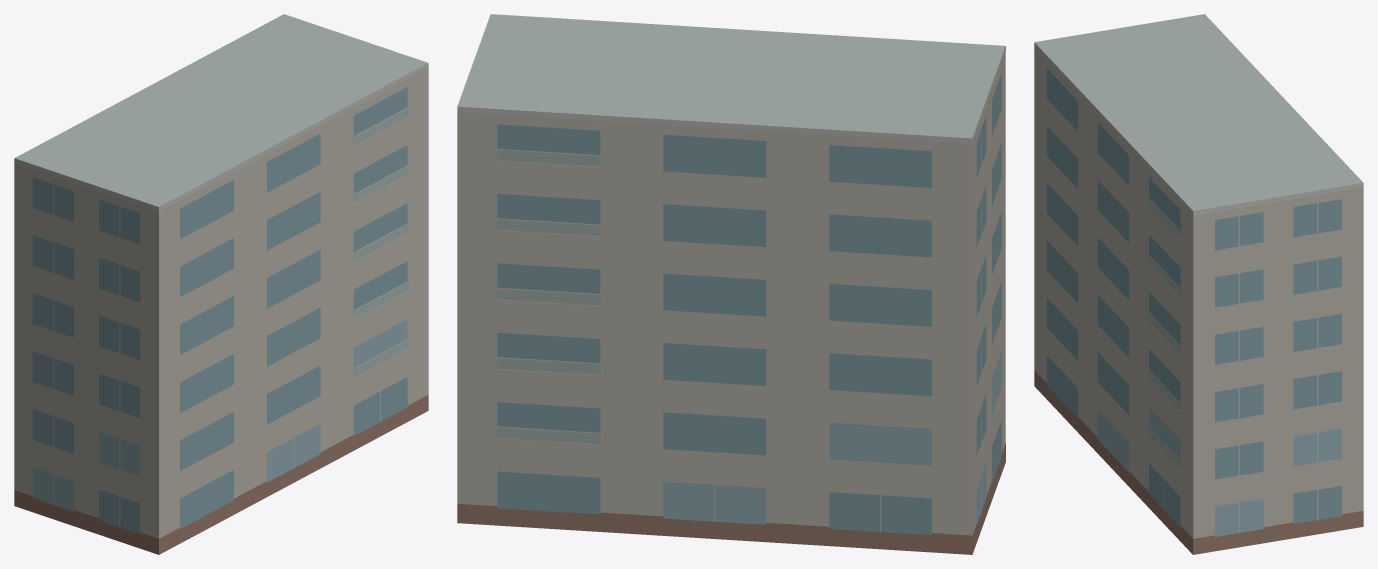
Rendered from survey-upis-32745978.glb.
3 renders of one model, left to right at view 1: azimuth 30°, elevation 25°; view 2: azimuth 150°, elevation 25°; view 3: azimuth 270°, elevation 25°, orthographic. The views are drawn at different scales.
Visible parts, largest first — view 1: survey-upis-32745978.tmp; view 2: survey-upis-32745978.tmp; view 3: survey-upis-32745978.tmp.
Part boxes in pixels (x1,y1,x2,y2): survey-upis-32745978.tmp: (14,14,428,554); survey-upis-32745978.tmp: (457,14,1005,554); survey-upis-32745978.tmp: (1034,14,1363,554).
Bounding box in the file's own units: 22.48 × 18.3 × 15.89.
